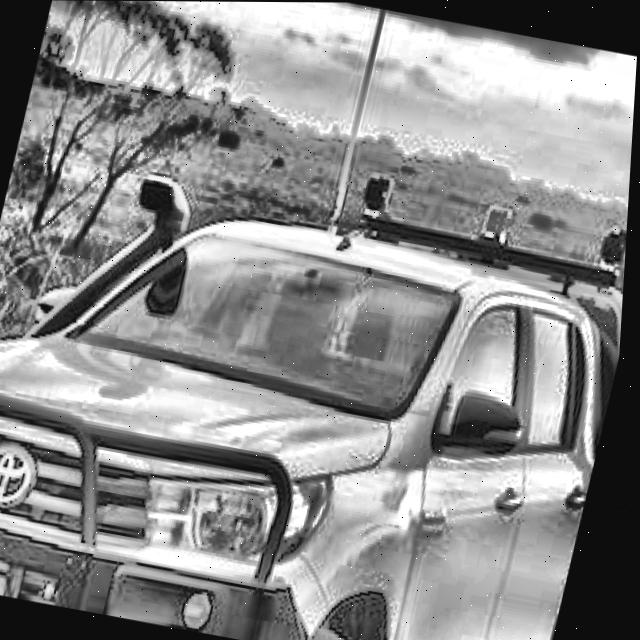light_vehicle: (0, 101, 635, 640)
